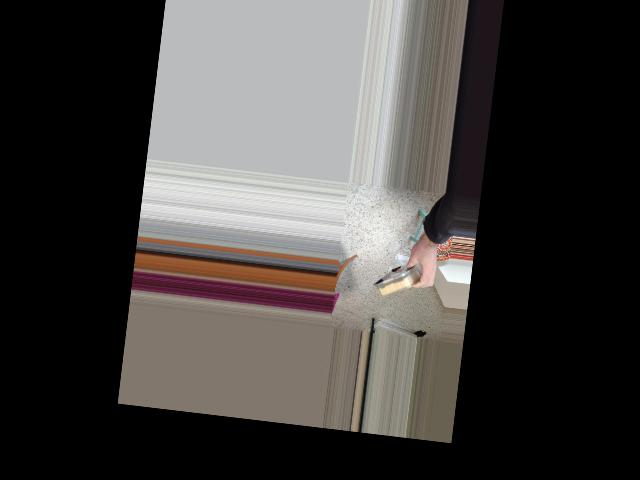cheese: (369, 247, 446, 312)
